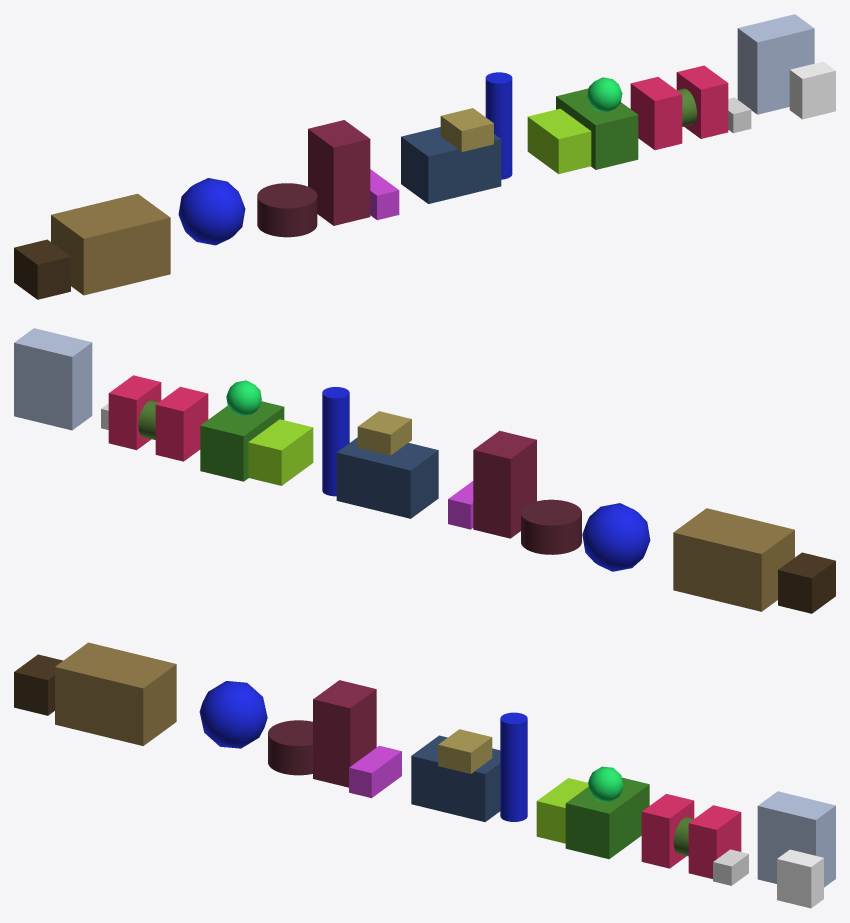
File: boxes1234567.fbx
3 renders of one model, top to bottom at view 1: azimuth 30°, elevation 25°; view 2: azimuth 150°, elevation 25°; view 3: azimuth 330°, elevation 25°, orthographic.
Parts seen in each view (by area): view 1: Cube.002, Cube.012, Cube.003, Cube.005, Cube.008, Icosphere, Cube.007, Cube.009, Cylinder, Cube.001, Cube.010, Cube.013 (+5 smaller); view 2: Cube.002, Cube.012, Cube.005, Cube.003, Cube.008, Icosphere, Cube.007, Cube.009, Cylinder, Cube.001, Cube.010, Cylinder.001 (+4 smaller); view 3: Cube.002, Cube.003, Cube.012, Cube.005, Cube.008, Icosphere, Cylinder.001, Cube.010, Cube.009, Cube.013, Cylinder, Cube.001 (+6 smaller).
Boxes of the visible parts, x1=… form: Cube.002: x1=51, y1=193, x2=170, y2=295; Cube.012: x1=737, y1=14, x2=814, y2=114; Cube.003: x1=308, y1=120, x2=370, y2=225; Cube.005: x1=401, y1=127, x2=501, y2=203; Cube.008: x1=556, y1=88, x2=638, y2=169; Icosphere: x1=178, y1=178, x2=245, y2=245; Cube.007: x1=527, y1=108, x2=591, y2=174; Cube.009: x1=630, y1=77, x2=682, y2=150; Cylinder: x1=257, y1=183, x2=317, y2=237; Cube.001: x1=14, y1=239, x2=70, y2=299; Cube.010: x1=676, y1=65, x2=728, y2=138; Cube.013: x1=789, y1=61, x2=835, y2=119; Cube.002: x1=673, y1=508, x2=794, y2=611; Cube.012: x1=14, y1=328, x2=92, y2=430; Cube.005: x1=336, y1=437, x2=438, y2=518; Cube.003: x1=473, y1=430, x2=536, y2=538; Cube.008: x1=200, y1=401, x2=284, y2=481; Icosphere: x1=582, y1=503, x2=650, y2=571; Cube.007: x1=248, y1=419, x2=313, y2=485; Cube.009: x1=155, y1=386, x2=208, y2=461; Cylinder: x1=521, y1=499, x2=581, y2=554; Cube.001: x1=778, y1=552, x2=835, y2=613; Cube.010: x1=108, y1=375, x2=161, y2=450; Cylinder.001: x1=322, y1=387, x2=349, y2=496; Cube.002: x1=55, y1=642, x2=176, y2=745; Cube.003: x1=313, y1=680, x2=376, y2=787; Cube.012: x1=757, y1=791, x2=835, y2=887; Cube.005: x1=411, y1=735, x2=500, y2=821; Cube.008: x1=565, y1=777, x2=649, y2=859; Icosphere: x1=199, y1=681, x2=267, y2=748; Cylinder.001: x1=500, y1=712, x2=527, y2=821; Cube.010: x1=688, y1=805, x2=741, y2=878; Cube.009: x1=641, y1=794, x2=694, y2=868; Cube.013: x1=777, y1=849, x2=823, y2=908; Cylinder: x1=268, y1=720, x2=312, y2=775; Cube.001: x1=14, y1=654, x2=62, y2=715.
Bounding box in the file's own units: 3101 × 376 × 311.
